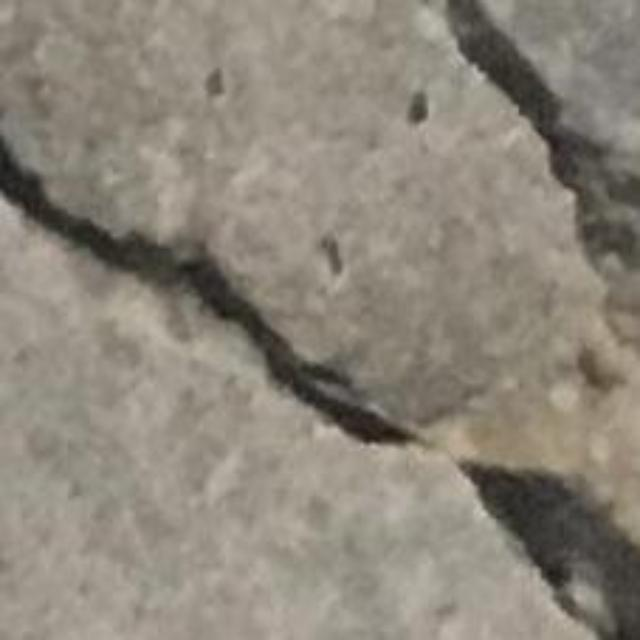crack: (0, 133, 411, 445)
